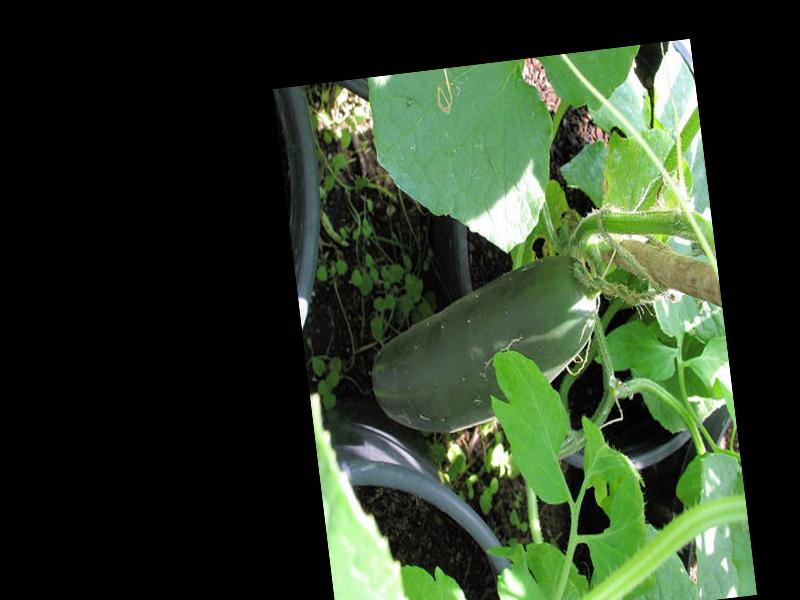Cucumber: (359, 250, 611, 439)
